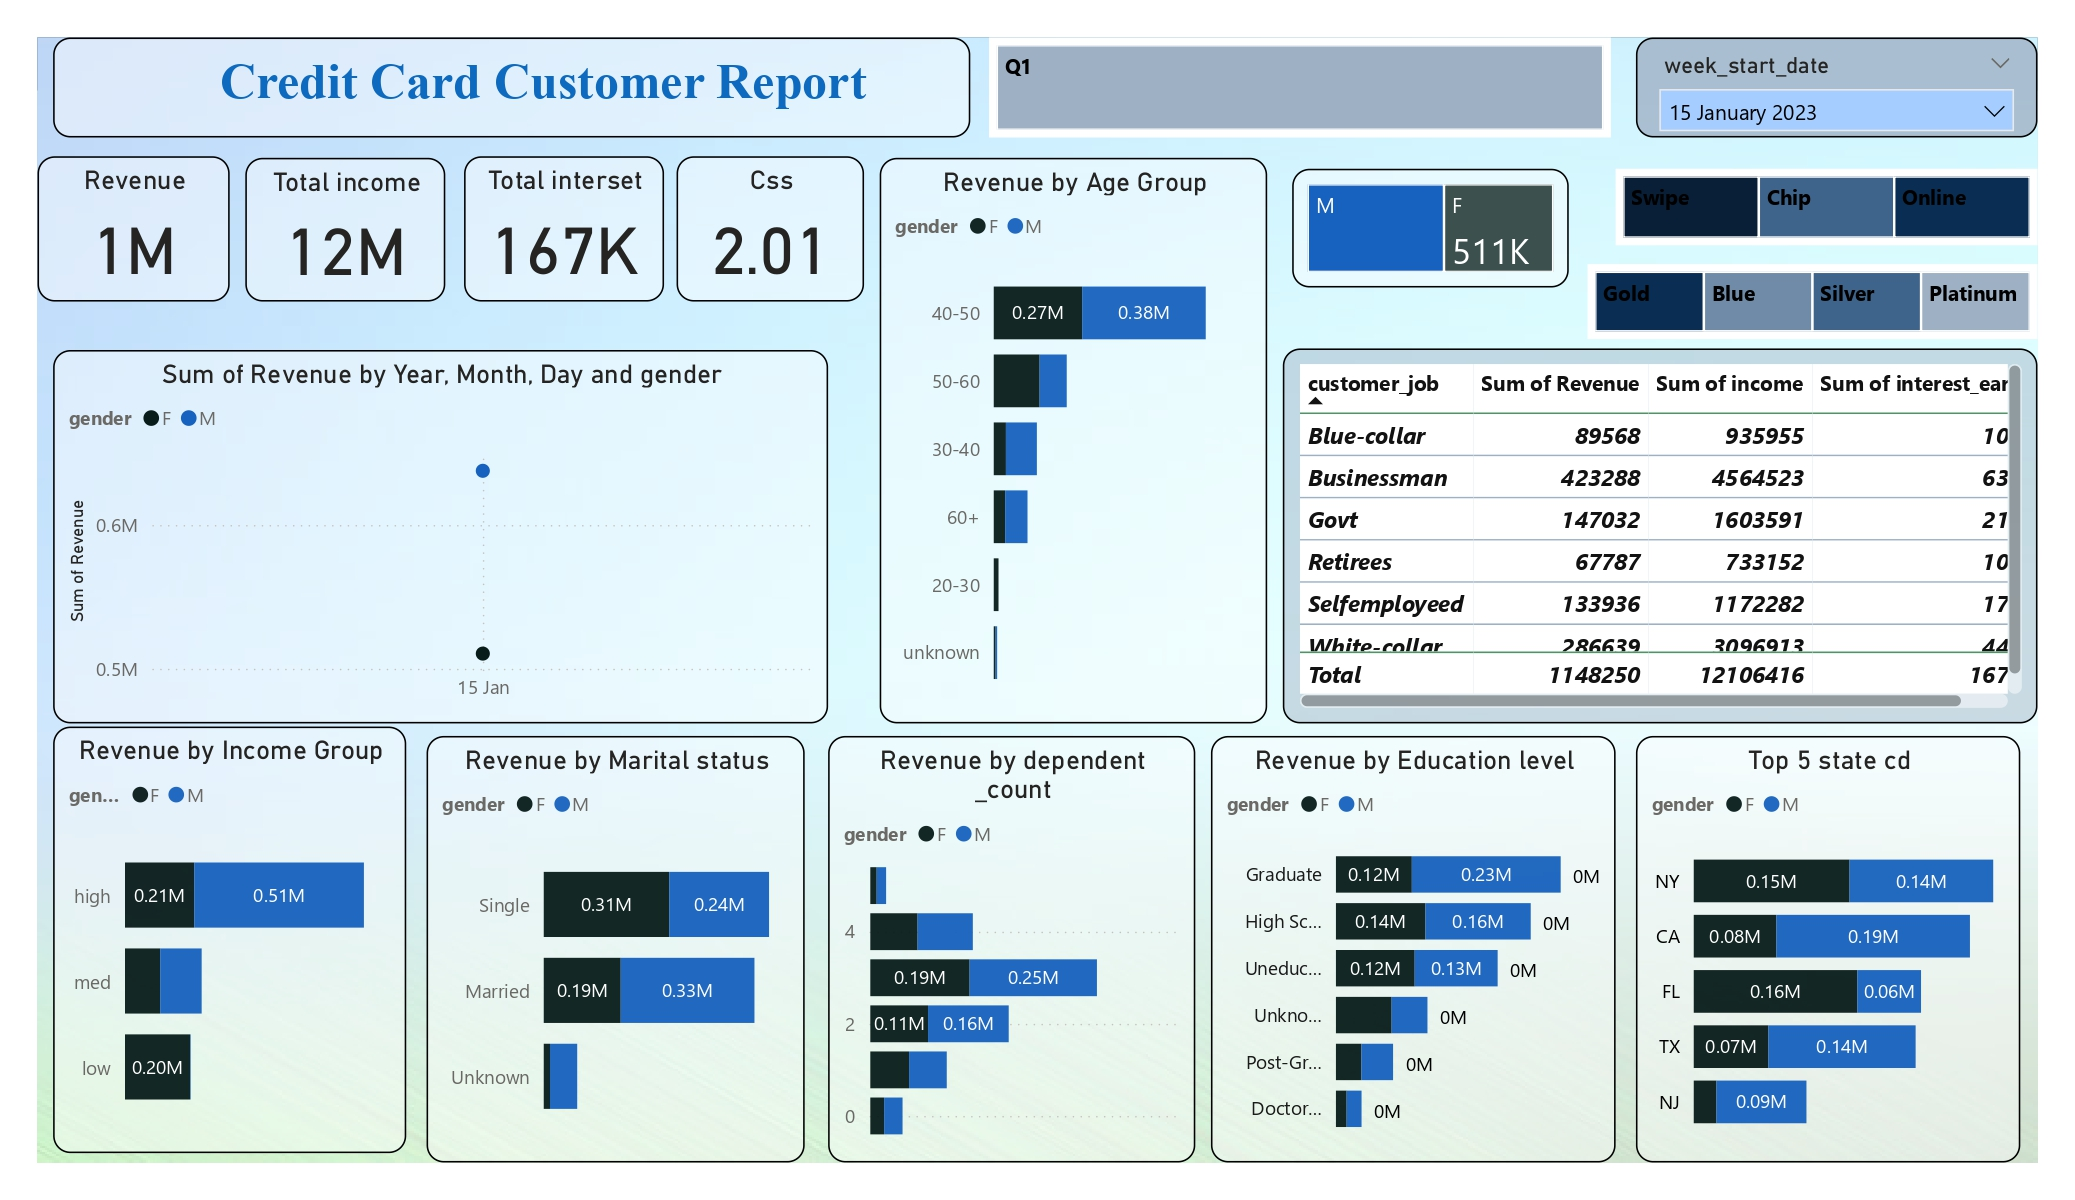

The page's visual inventory and layout, read from the dashboard file:
{"tool":"powerbi","page":{"name":"Page 2","canvas":[1280,720],"ordinal":1},"visuals":[{"type":"textbox","box":[10,0,587.1,64.3],"z":0},{"type":"barChart","title":"Revenue by Income Group","fields":{"Category":["public cust_detail.IncomeGroup"],"Y":["Sum(public cc_detail.Revenue)"],"Series":["public cust_detail.gender"]},"box":[10,441.4,225.7,272.9],"z":1000},{"type":"tableEx","fields":{"Values":["public cust_detail.customer_job","Sum(public cc_detail.Revenue)","Sum(public cust_detail.income)","Sum(public cc_detail.interest_earned)"]},"box":[797.1,198.6,483,240],"z":2000},{"type":"card","title":"Revenue","fields":{"Values":["Sum(public cc_detail.Revenue)"]},"box":[0,75.7,122.9,92.9],"z":3000},{"type":"card","title":"Total interset","fields":{"Values":["Sum(public cc_detail.interest_earned)"]},"box":[272.9,75.7,128.6,92.9],"z":4000},{"type":"card","title":"Css","fields":{"Values":["Avg(public cust_detail.cust_satisfaction_score)"]},"box":[408.6,75.7,120,92.9],"z":5000},{"type":"treemap","fields":{"Values":["Avg(public cc_detail.Client_Num)"],"Group":["public cc_detail.qtr"]},"box":[608.6,0,398.6,64.3],"z":6000},{"type":"card","title":"Total income","fields":{"Values":["Sum(public cust_detail.income)"]},"box":[132.9,77.1,128.6,91.4],"z":7000},{"type":"lineChart","fields":{"Y":["Sum(public cc_detail.Revenue)"],"Series":["public cust_detail.gender"],"Category":["public cc_detail.week_start_date.Variation.Date Hierarchy.Year","public cc_detail.week_start_date.Variation.Date Hierarchy.Month","public cc_detail.week_start_date.Variation.Date Hierarchy.Day"]},"box":[10,200,495.7,238.6],"z":8000},{"type":"treemap","fields":{"Group":["public cust_detail.gender"],"Values":["Sum(public cc_detail.Revenue)"]},"box":[802.9,84.3,177.1,75.7],"z":9000},{"type":"barChart","title":"Revenue by Age Group","fields":{"Category":["public cust_detail.geGroup"],"Y":["Sum(public cc_detail.Revenue)"],"Series":["public cust_detail.gender"]},"box":[538.6,77.1,248.6,361.4],"z":10000},{"type":"barChart","title":"Revenue by dependent _count","fields":{"Category":["public cust_detail.dependent_count"],"Y":["Sum(public cc_detail.Revenue)"],"Series":["public cust_detail.gender"]},"box":[505.7,447.1,235.7,272.9],"z":11000},{"type":"barChart","title":"Revenue by Education level ","fields":{"Category":["public cust_detail.education_level"],"Y":["Sum(public cc_detail.Revenue)"],"Series":["public cust_detail.gender"]},"box":[751.4,447.1,258.6,272.9],"z":12000},{"type":"barChart","title":"Top 5 state cd","fields":{"Category":["public cust_detail.state_cd"],"Y":["Sum(public cc_detail.Revenue)"],"Series":["public cust_detail.gender"]},"box":[1022.9,447.1,245.7,272.9],"z":13000},{"type":"barChart","title":"Revenue by Marital status","fields":{"Category":["public cust_detail.marital_status"],"Y":["Sum(public cc_detail.Revenue)"],"Series":["public cust_detail.gender"]},"box":[248.6,447.1,242.9,272.9],"z":14000},{"type":"treemap","fields":{"Group":["public cc_detail.card_category"],"Values":["Avg(public cust_detail.client_num)"]},"box":[991.7,145,288.3,48.3],"z":15000},{"type":"treemap","fields":{"Group":["public cc_detail.use_chip"],"Values":["Avg(public cust_detail.client_num)"]},"box":[1010,84.3,270,48.6],"z":16000},{"type":"slicer","fields":{"Values":["public cc_detail.week_start_date"]},"box":[1022.9,0,257.1,64.3],"z":17000}]}

Visuals, with their boxes in screenshot pixels (x1, y1, x2, y2):
textbox: <box>53,38,970,138</box>
"Revenue by Income Group" barChart: <box>53,727,406,1154</box>
tableEx - public cust_detail.customer_job x Sum(public cc_detail.Revenue): <box>1283,348,2038,723</box>
"Revenue" card: <box>38,156,230,301</box>
"Total interset" card: <box>464,156,665,301</box>
"Css" card: <box>676,156,863,301</box>
treemap - Avg(public cc_detail.Client_Num) x public cc_detail.qtr: <box>988,38,1611,138</box>
"Total income" card: <box>245,158,446,301</box>
lineChart - Sum(public cc_detail.Revenue) x public cust_detail.gender: <box>53,350,828,723</box>
treemap - public cust_detail.gender x Sum(public cc_detail.Revenue): <box>1292,169,1569,288</box>
"Revenue by Age Group" barChart: <box>879,158,1268,723</box>
"Revenue by dependent _count" barChart: <box>828,736,1196,1162</box>
"Revenue by Education level " barChart: <box>1212,736,1616,1162</box>
"Top 5 state cd" barChart: <box>1636,736,2020,1162</box>
"Revenue by Marital status" barChart: <box>426,736,805,1162</box>
treemap - public cc_detail.card_category x Avg(public cust_detail.client_num): <box>1587,264,2038,340</box>
treemap - public cc_detail.use_chip x Avg(public cust_detail.client_num): <box>1616,169,2038,245</box>
slicer - public cc_detail.week_start_date: <box>1636,38,2038,138</box>
